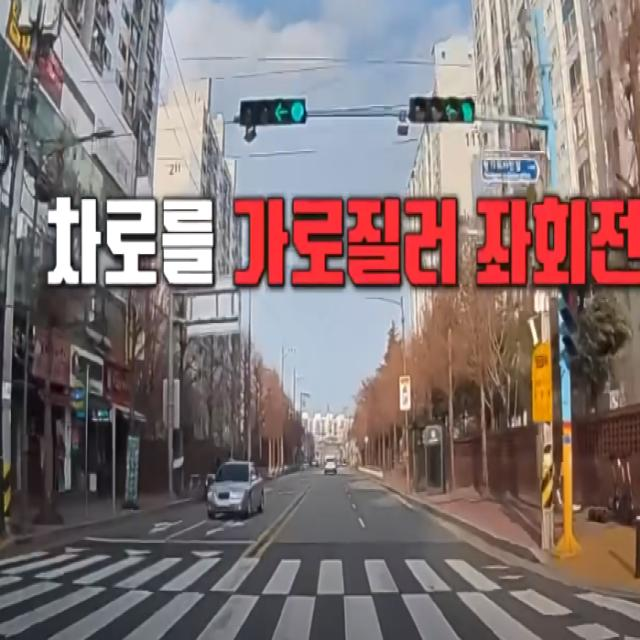Green Light: (459, 95, 475, 123), (290, 99, 305, 124)
